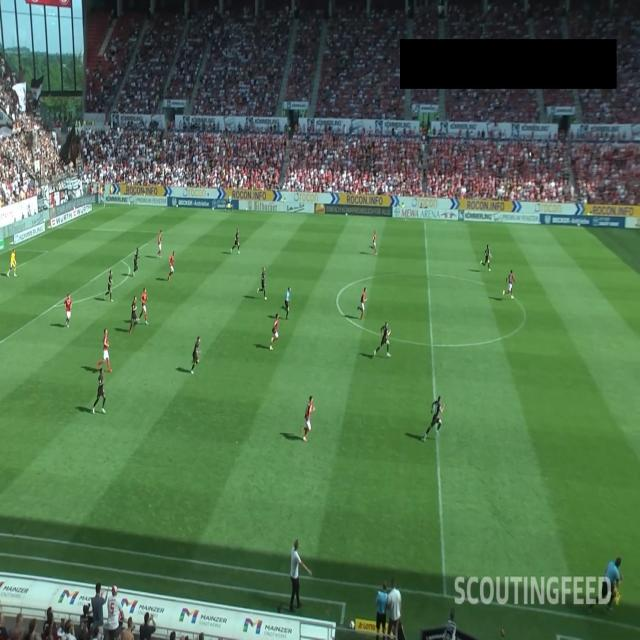ball: (528, 152, 532, 156)
